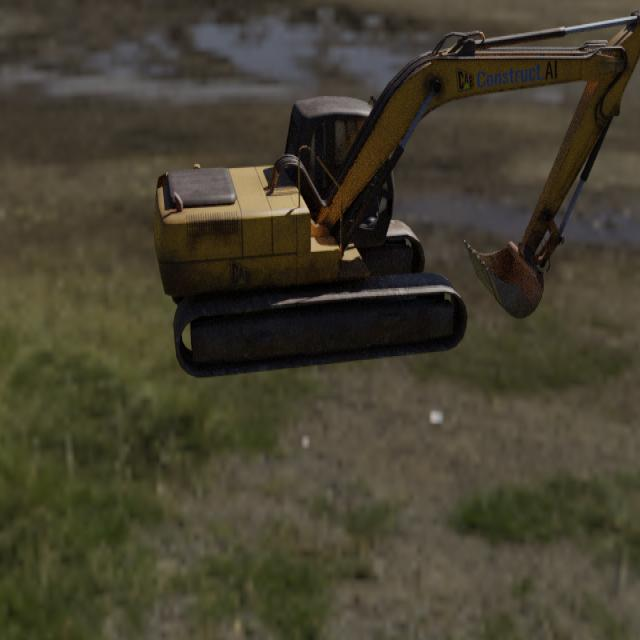excavator: (152, 9, 640, 379)
